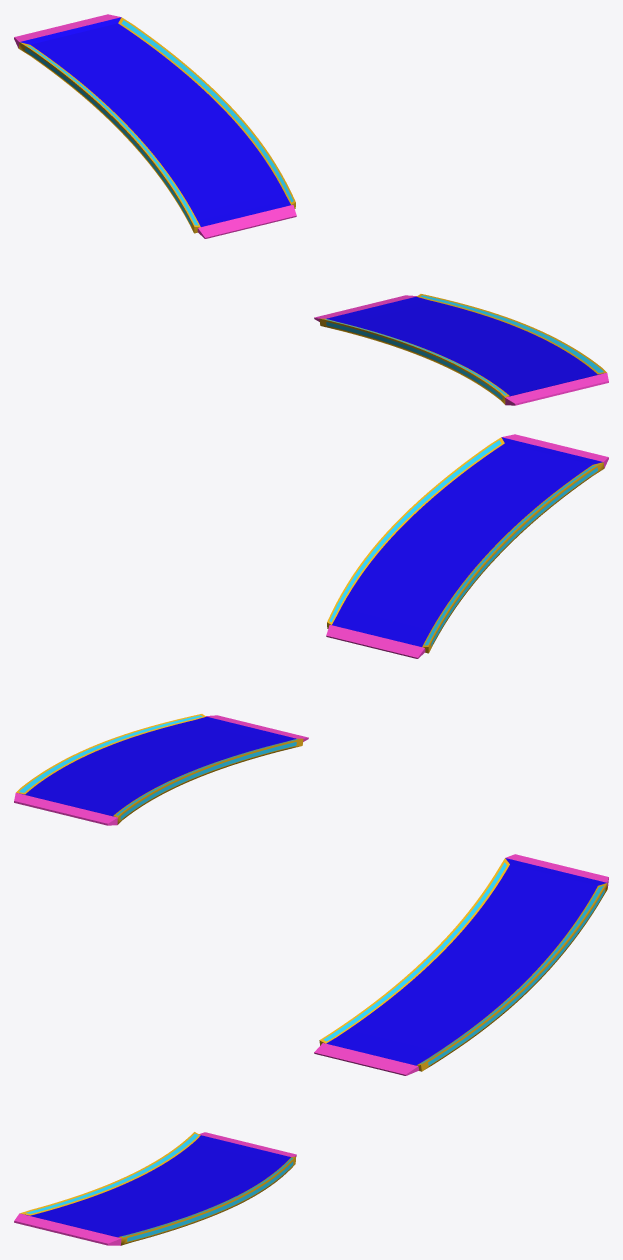
The model's file is 1st to second platform NEW.FBX.
3 views of the same model, one above another, from view 1: azimuth 30°, elevation 25°; view 2: azimuth 150°, elevation 25°; view 3: azimuth 330°, elevation 25° (orthographic).
Parts seen in each view (by area): view 1: Box073, Box074; view 2: Box074, Box073; view 3: Box073, Box074.
Boxes of the visible parts, x1,y1,x2,y2 form: Box073: (14, 14, 296, 238); Box074: (314, 294, 608, 405); Box074: (326, 434, 608, 658); Box073: (14, 714, 308, 825); Box073: (314, 854, 608, 1075); Box074: (14, 1132, 296, 1245).
Size of the model in its own units: 8.03 by 3.61 by 55.88.
